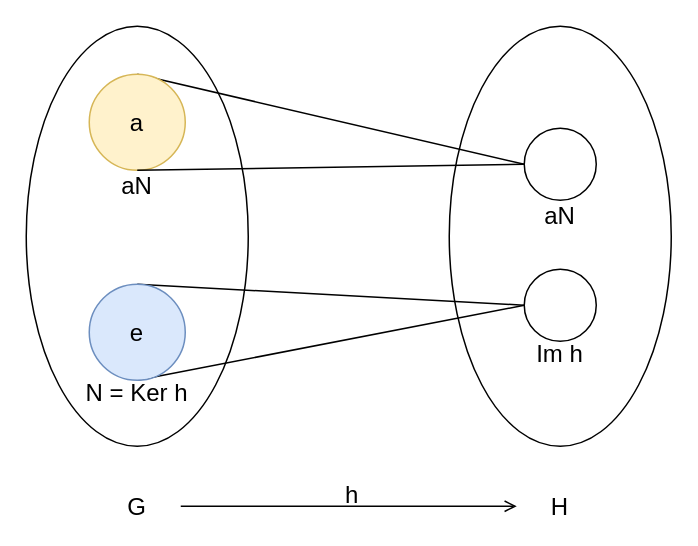
Some shapes in this 698 by 546 pixel diagram are drawn without their labels. Here are the shapes that lost their labels. From the top down, the centre of each, then its label:
At point 559,163: "h(a)".
At point 559,304: "e'".
